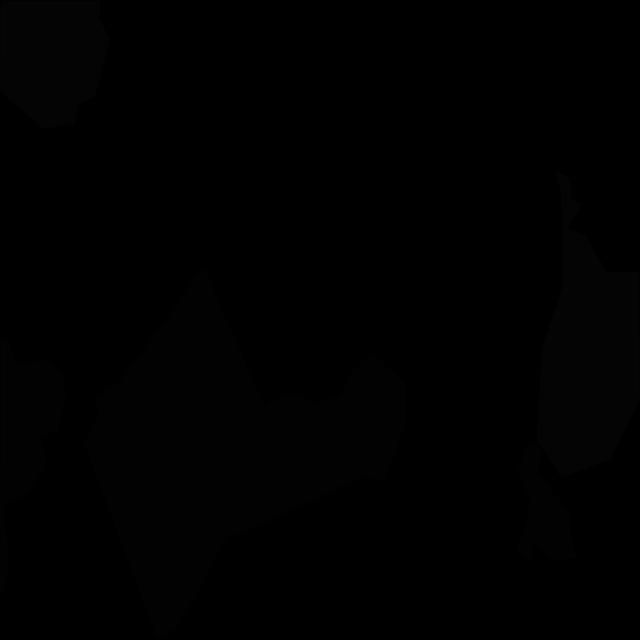cardboard: (83, 268, 406, 639), (0, 339, 66, 599), (516, 441, 578, 566)
soft_plastic: (537, 172, 640, 478), (0, 0, 110, 129)
